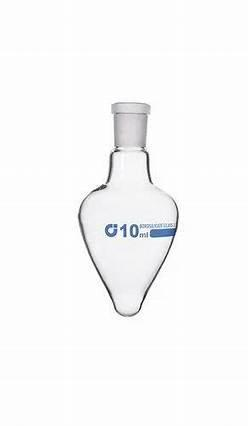Pear shaped flask: (78, 95, 181, 316)
